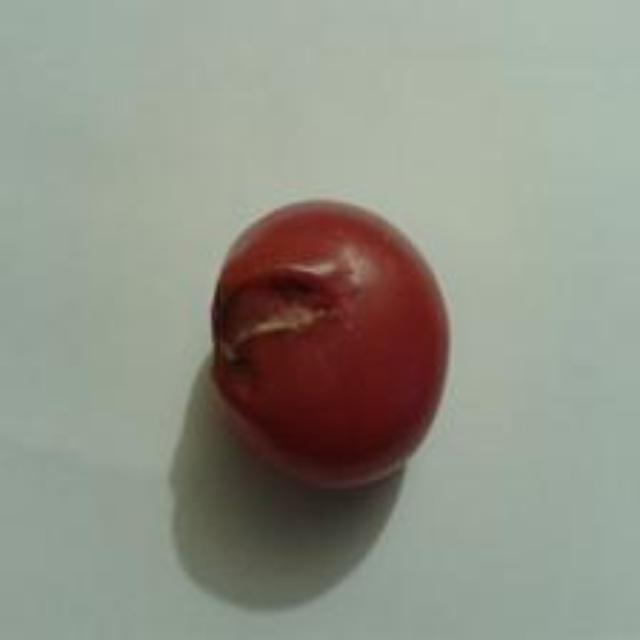defect: (204, 185, 460, 499)
